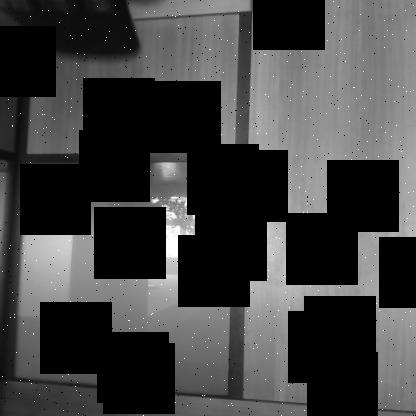Porte: (240, 1, 415, 415)
